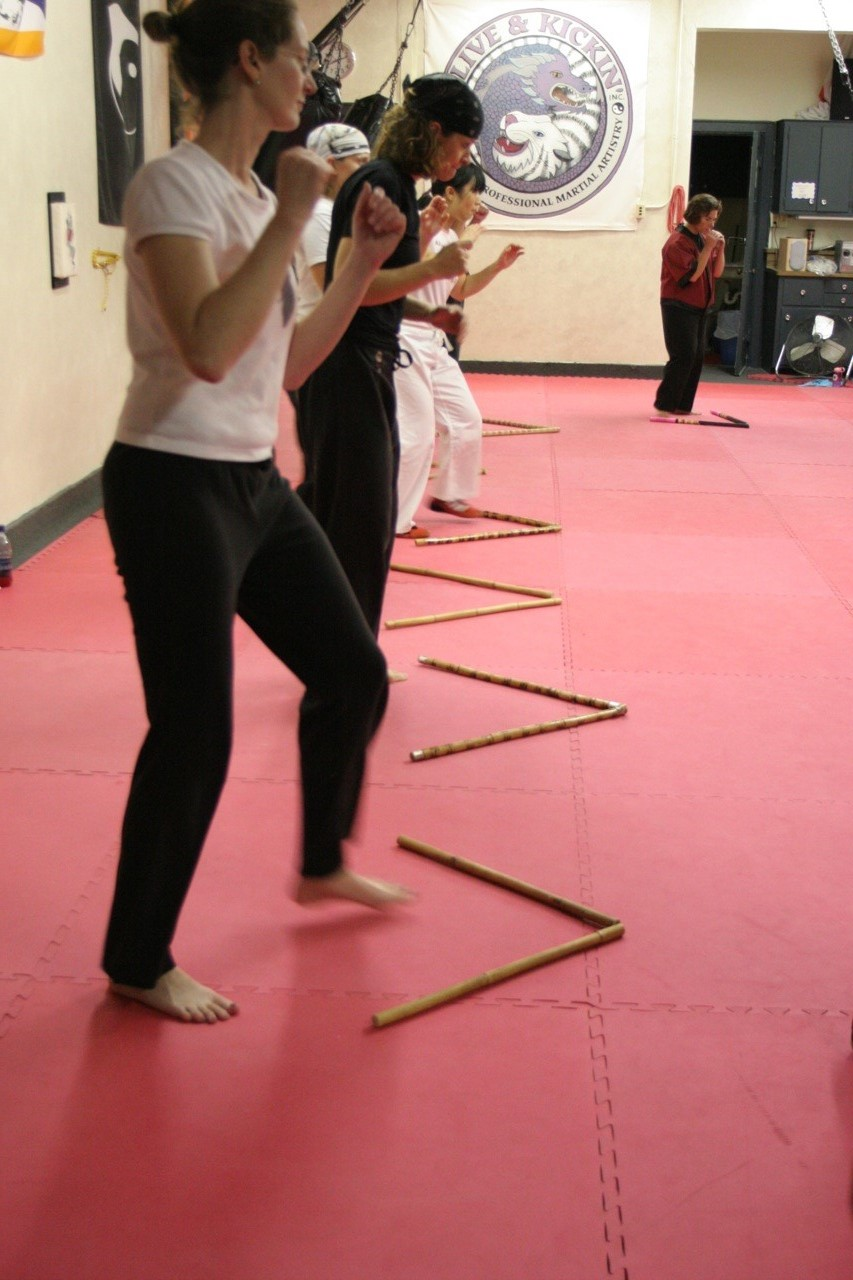baston_e: (387, 925, 611, 1025), (402, 834, 611, 927), (417, 704, 619, 761), (422, 655, 612, 708), (391, 561, 547, 598), (389, 595, 557, 628), (417, 524, 556, 547), (482, 509, 551, 527), (651, 415, 747, 427), (482, 416, 541, 428), (484, 427, 558, 436), (713, 409, 743, 423)
baston_v: (364, 1007, 389, 1030), (604, 912, 626, 927), (394, 831, 410, 850), (407, 748, 425, 763), (615, 920, 628, 936), (619, 701, 631, 717), (608, 699, 622, 712), (415, 652, 428, 663), (543, 587, 554, 598), (382, 618, 393, 628), (555, 594, 564, 606), (413, 536, 421, 546), (387, 561, 395, 571), (555, 522, 563, 532), (646, 414, 654, 422), (555, 425, 562, 432), (479, 429, 485, 437), (745, 422, 751, 428), (709, 407, 714, 413)
